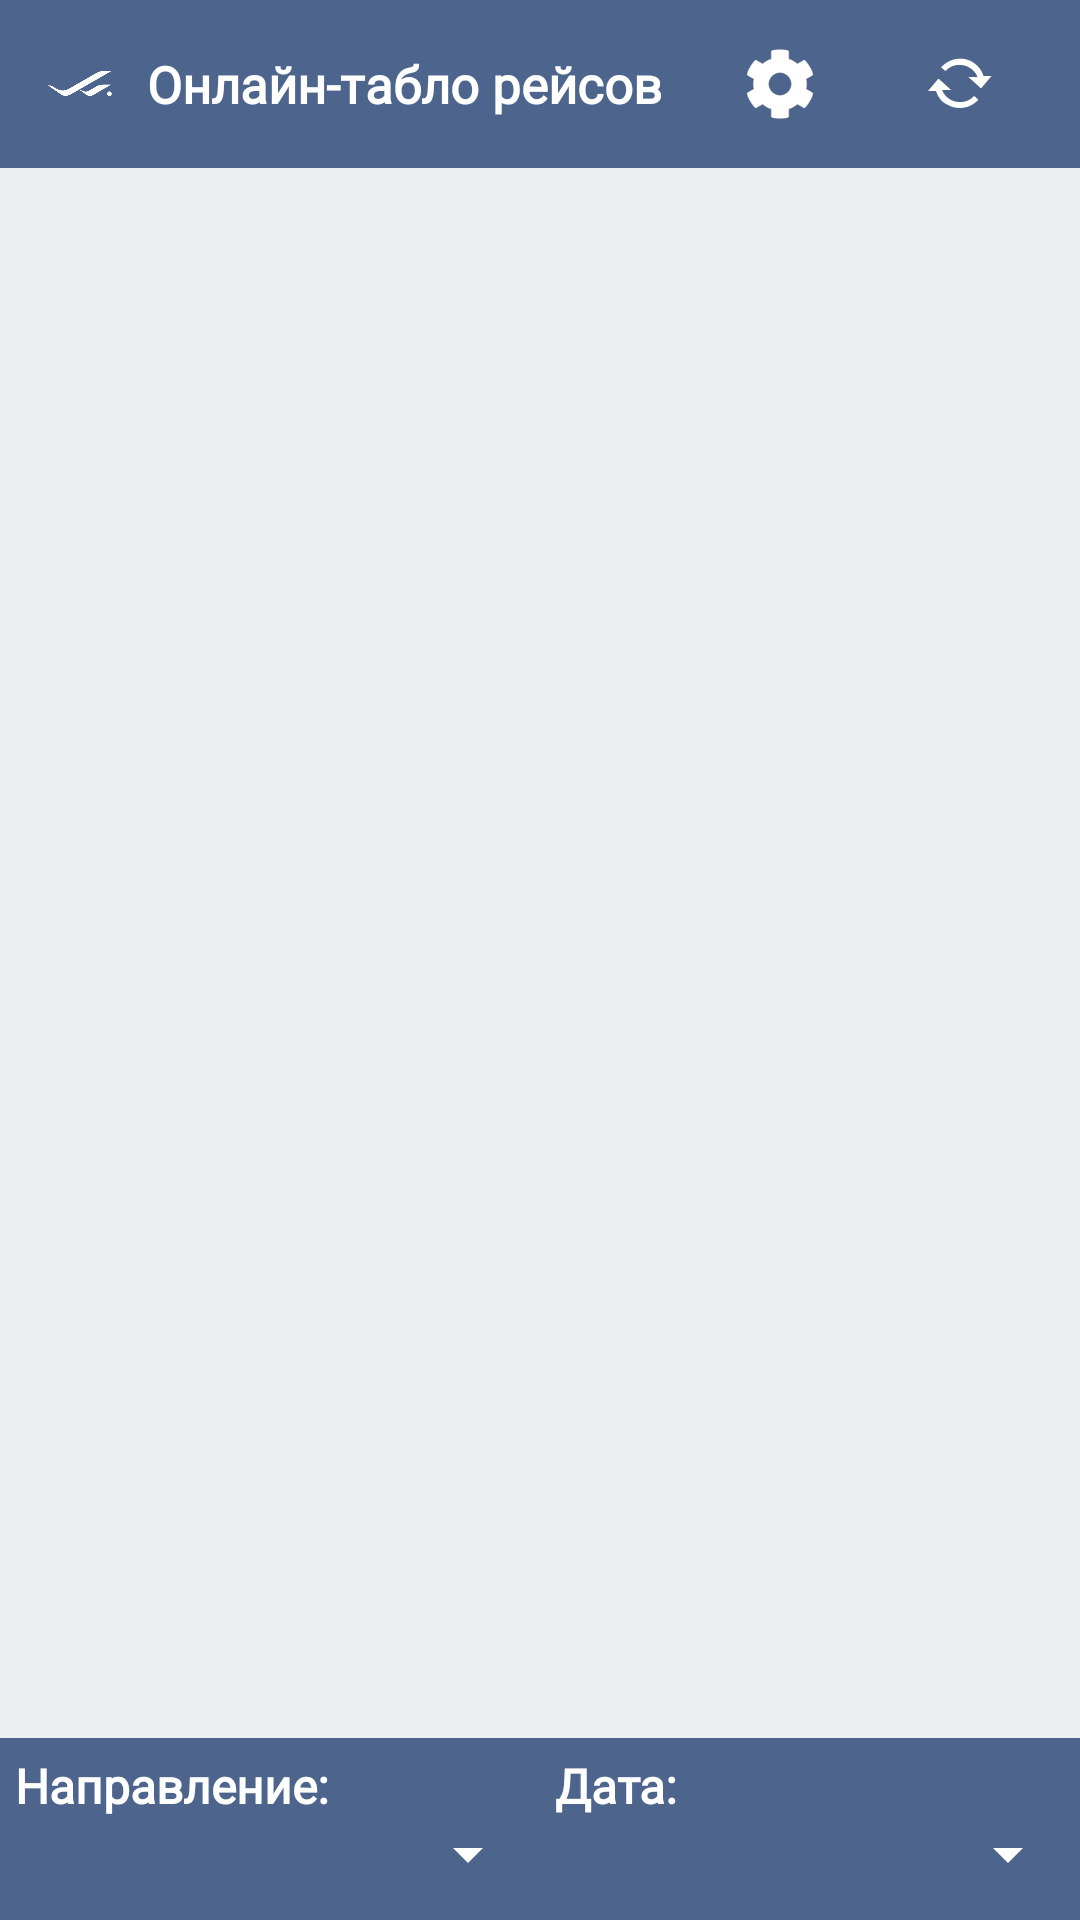

Named icons in this screenshot (1080px x 1920px) and their centers, [x,y]:
settings: [780,84]
sync: [960,83]
